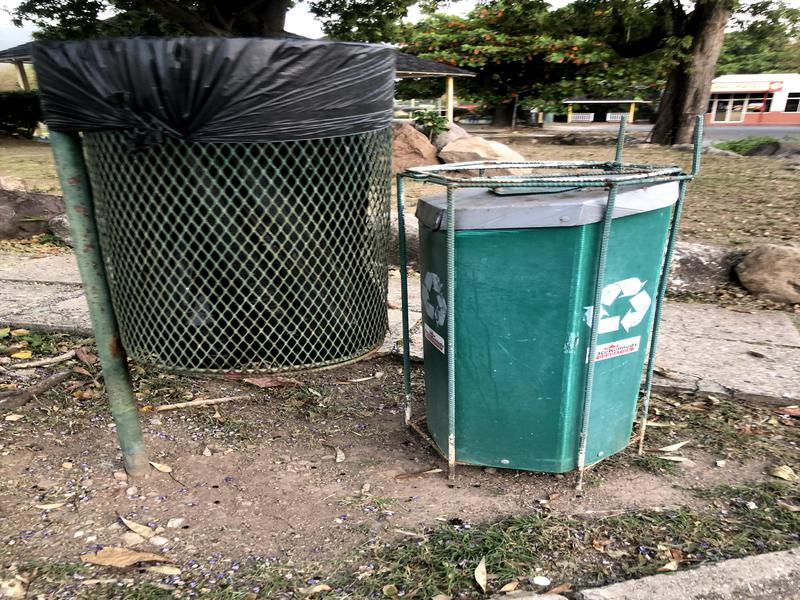18.0053245_-76.7486424_recyclebin: (388, 136, 686, 490)
